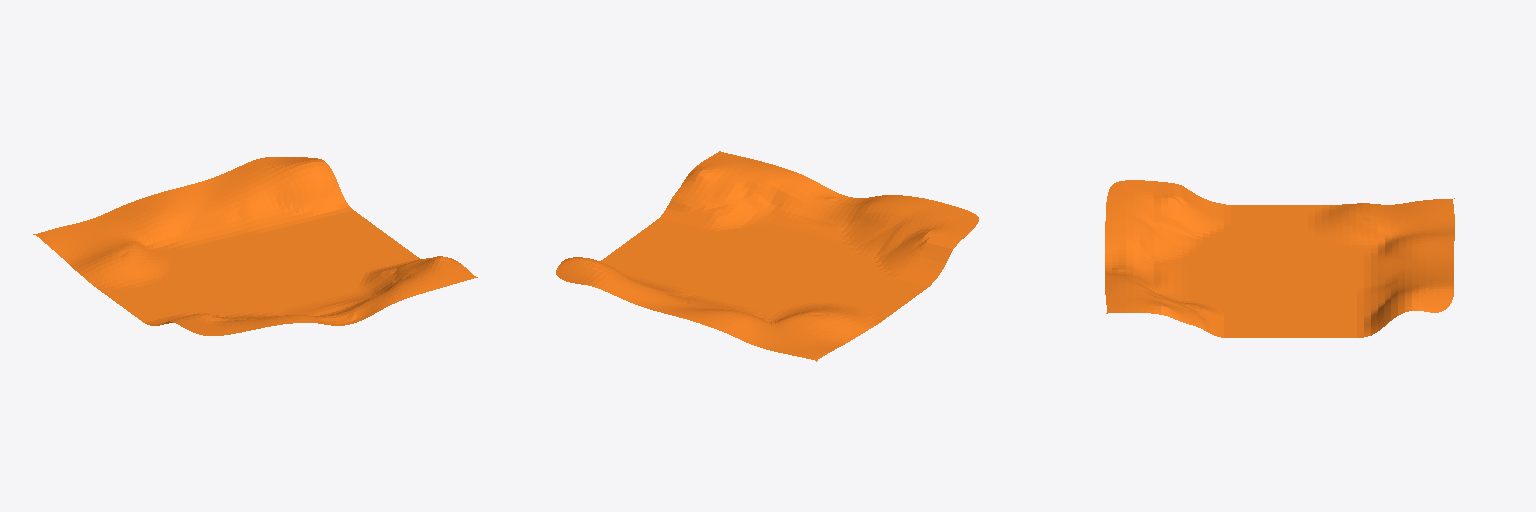
Rendered from desert.obj.
3 views of the same model, side by side, from view 1: azimuth 30°, elevation 25°; view 2: azimuth 150°, elevation 25°; view 3: azimuth 270°, elevation 25° (orthographic).
Parts seen in each view (by area): view 1: Plane; view 2: Plane; view 3: Plane.
Boxes of the visible parts, <box> form: Plane: <box>33,157,477,335</box>; Plane: <box>556,151,978,361</box>; Plane: <box>1105,180,1454,337</box>.
Size of the model in its own units: 210 by 23.11 by 232.